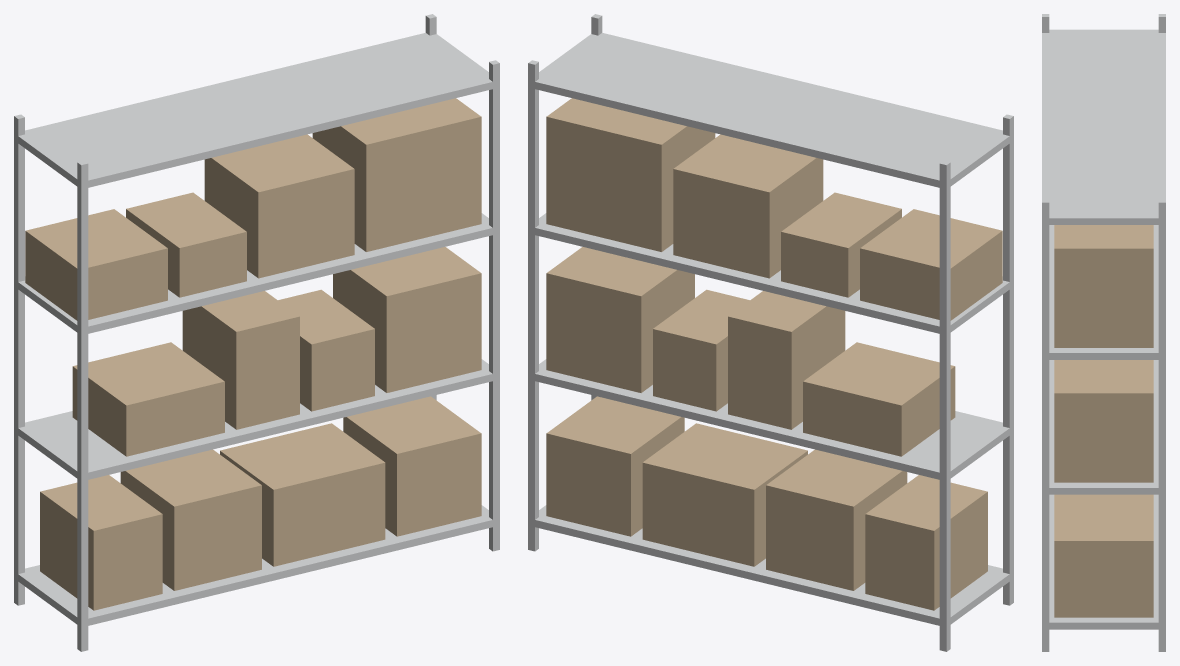
File: Storage_Rack.fbx
3 views of the same model, side by side, from view 1: azimuth 30°, elevation 25°; view 2: azimuth 150°, elevation 25°; view 3: azimuth 270°, elevation 25° (orthographic). The views are drawn at different scales.
Visible parts, largest first — view 1: Storage_Rack; view 2: Storage_Rack; view 3: Storage_Rack.
Boxes of the visible parts, x1,y1,x2,y2 form: Storage_Rack: [14, 14, 499, 651]; Storage_Rack: [528, 14, 1013, 651]; Storage_Rack: [1042, 14, 1165, 651].
Size of the model in its own units: 1.8 by 2 by 0.5.
